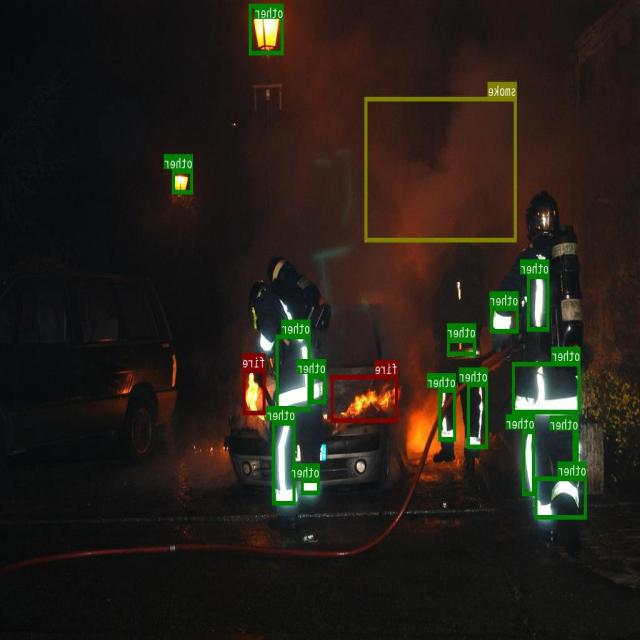fire: (332, 374, 398, 422), (244, 368, 266, 414)
other: (513, 361, 581, 413), (277, 334, 311, 411), (535, 476, 587, 519), (273, 420, 296, 504), (250, 4, 284, 54), (468, 382, 489, 448), (528, 274, 550, 330), (439, 388, 456, 440), (523, 429, 535, 495), (491, 306, 519, 332), (172, 169, 194, 193), (448, 338, 476, 354), (312, 374, 326, 402), (302, 478, 320, 494), (574, 430, 579, 471)
smoke: (365, 96, 517, 241)
